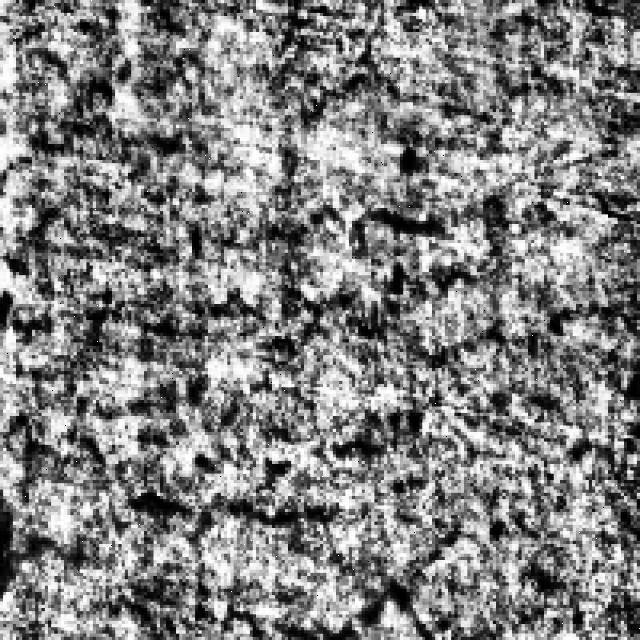Pitted_Surface: (9, 304, 636, 534), (7, 16, 276, 368), (74, 470, 556, 636), (208, 160, 595, 365)
